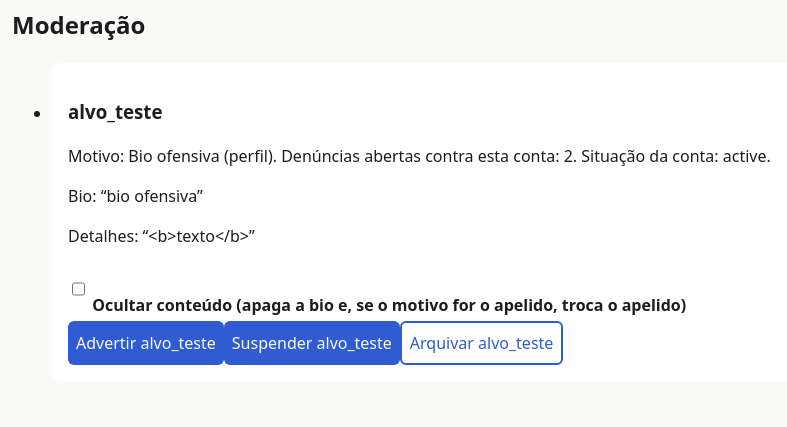
it: fila de moderação mostra o conteúdo como texto e resolve com a ação escolhida
expect the heading "alvo_teste" is shown: met, box 68,98 -> 162,124
expect the text "<b>texto</b>" is shown: met, box 143,225 -> 255,247
Click the checkbox labelled "Ocultar conteúdo". click: (78, 289)
box: 72,267 -> 85,311
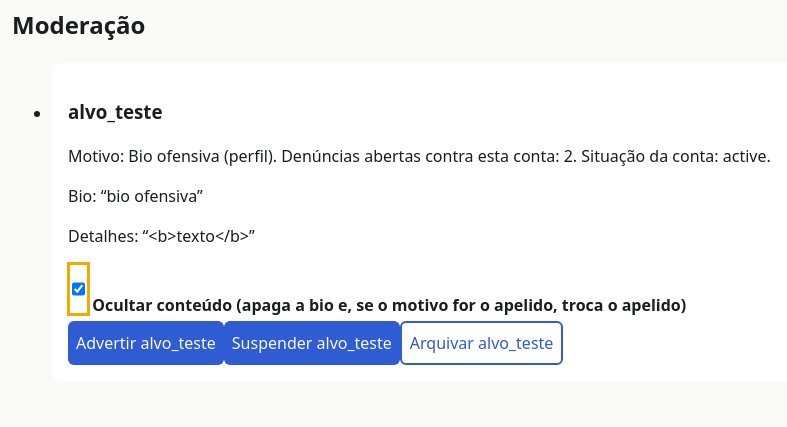
Click the button "Suspender alvo_teste". click: (312, 343)
box: 224,321 -> 400,365
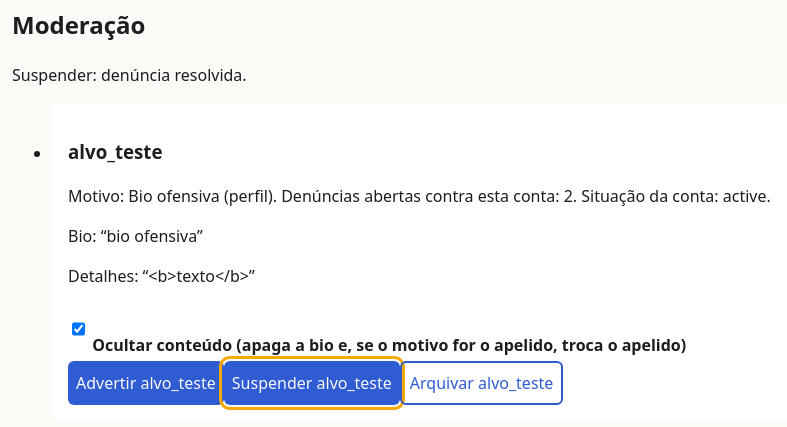
expect the message reads "Suspender: denúncia resolvida.": met, box 12,64 -> 247,86
